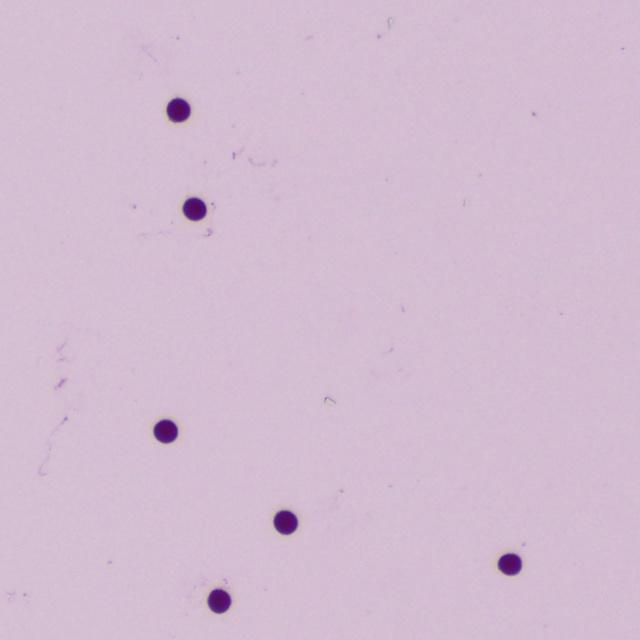viable: (167, 97, 190, 122), (154, 419, 177, 443), (274, 510, 297, 534), (498, 553, 521, 575), (209, 589, 230, 613), (183, 198, 205, 220)
